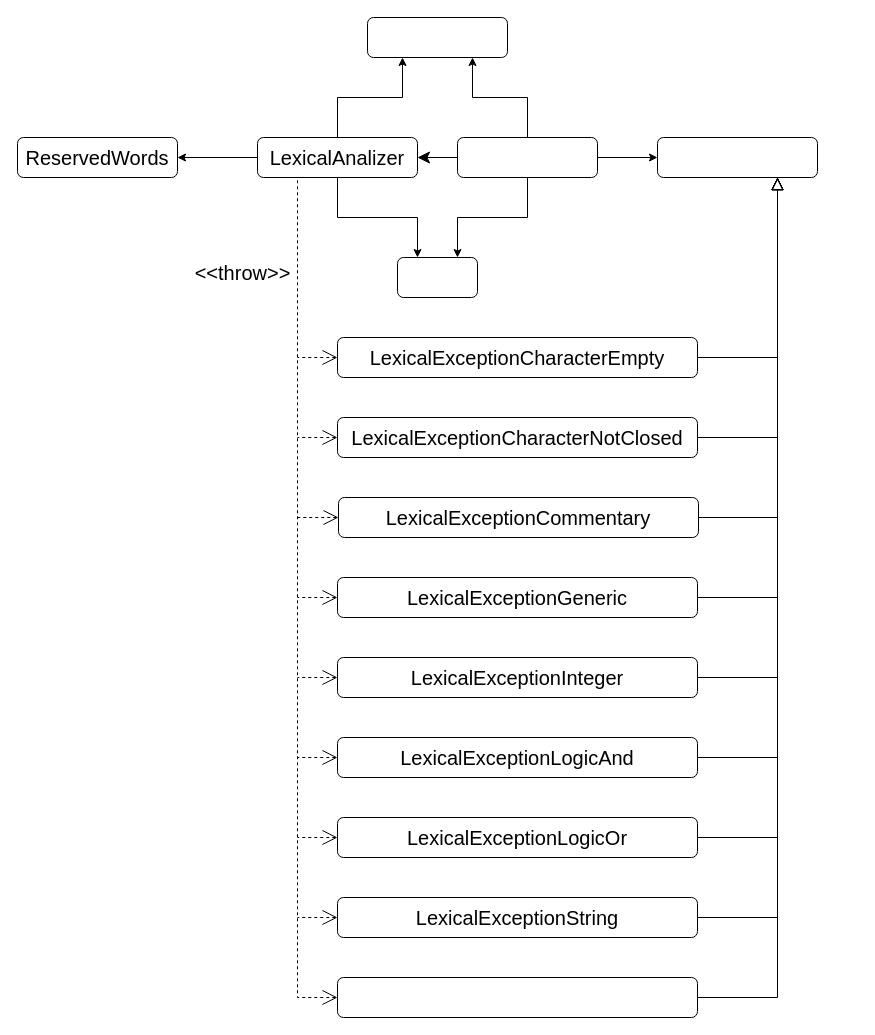
Some shapes in this 875 by 1035 pixel diagram are drawn without their labels. Each missing label, with the centre of its shape:
FileManager: the point at 437,37
LexicalException: the point at 737,157
LexicalExceptionUnicode: the point at 517,997
MainModule: the point at 527,157
Token: the point at 437,277
